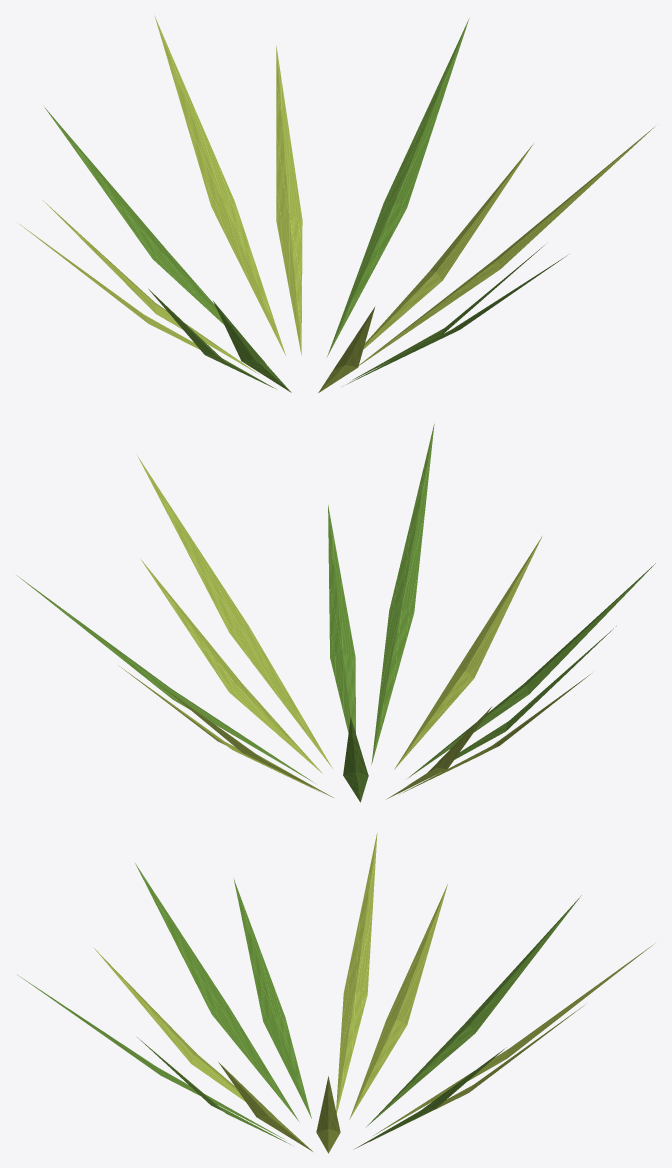
File: crop-lemongrass-young.glb
The picture shows the model from 3 angles, top to bottom: view 1: azimuth 30°, elevation 25°; view 2: azimuth 150°, elevation 25°; view 3: azimuth 270°, elevation 25°; orthographic projection. The views are drawn at different scales.
Visible parts, largest first — view 1: crop-lemongrass-young; view 2: crop-lemongrass-young; view 3: crop-lemongrass-young.
Part boxes in pixels (x1,y1,x2,y2): crop-lemongrass-young: (18,16,657,392); crop-lemongrass-young: (16,424,655,802); crop-lemongrass-young: (18,833,653,1153).
Bounding box in the file's own units: 0.7822 × 0.3002 × 0.8471.
1 material, 1 textured.
